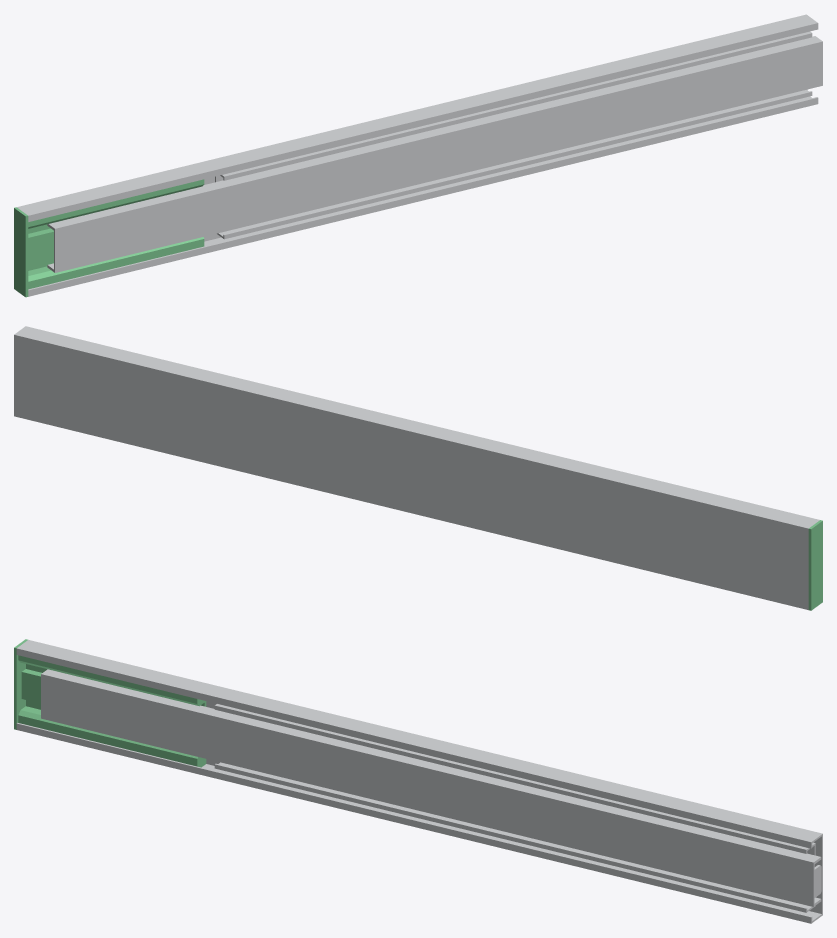
The picture shows the model from 3 angles, top to bottom: view 1: azimuth 30°, elevation 25°; view 2: azimuth 150°, elevation 25°; view 3: azimuth 330°, elevation 25°; orthographic projection.
Parts seen in each view (by area): view 1: 7ab0422cefda; view 2: 7ab0422cefda; view 3: 7ab0422cefda.
Part boxes in pixels (x1,y1,x2,y2): 7ab0422cefda: [14, 14, 822, 297]; 7ab0422cefda: [14, 326, 822, 610]; 7ab0422cefda: [14, 639, 822, 923].
Size of the model in its own units: 452 by 44 by 12.7.
